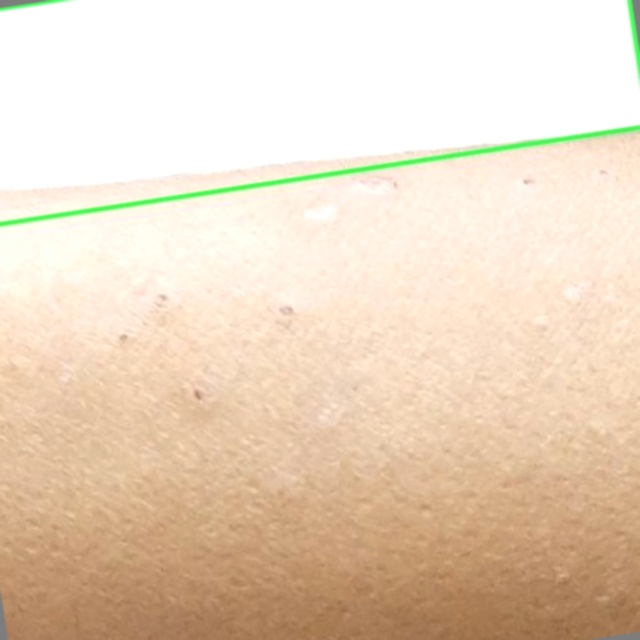Scabies: (0, 0, 639, 225)
